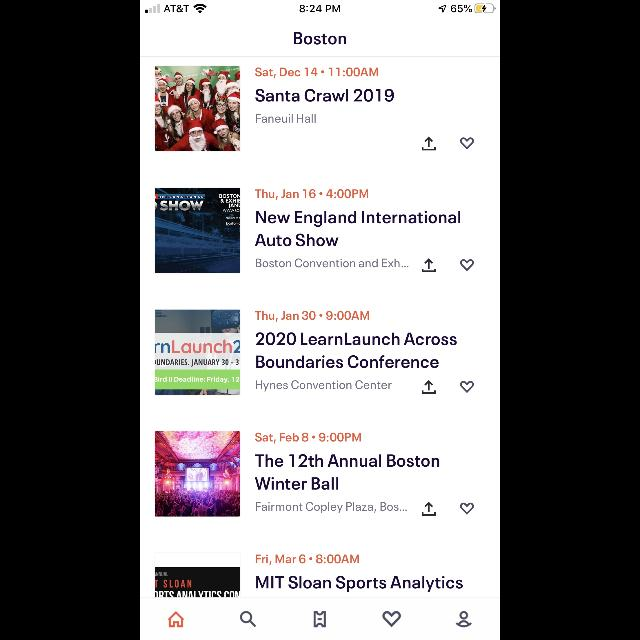icon: (382, 611, 402, 627), (456, 610, 472, 628), (168, 611, 185, 627), (240, 611, 256, 627), (314, 610, 326, 628), (422, 137, 436, 151), (422, 259, 436, 273), (422, 380, 436, 394), (422, 502, 436, 516), (460, 138, 474, 150), (460, 259, 474, 271), (460, 381, 474, 393), (460, 503, 474, 515)
image: (155, 66, 241, 152), (155, 188, 241, 274), (155, 309, 241, 395), (155, 431, 241, 517), (154, 552, 242, 598)
text: (255, 211, 461, 247), (256, 332, 457, 368), (255, 454, 439, 490), (256, 576, 464, 592), (256, 90, 394, 102), (256, 380, 392, 392), (256, 258, 408, 268), (256, 502, 406, 512), (255, 310, 369, 322), (256, 554, 360, 566), (255, 68, 378, 78), (255, 432, 361, 443), (255, 190, 368, 200), (294, 32, 346, 46), (256, 115, 316, 124)
uppertaskbar: (140, 0, 500, 14)
